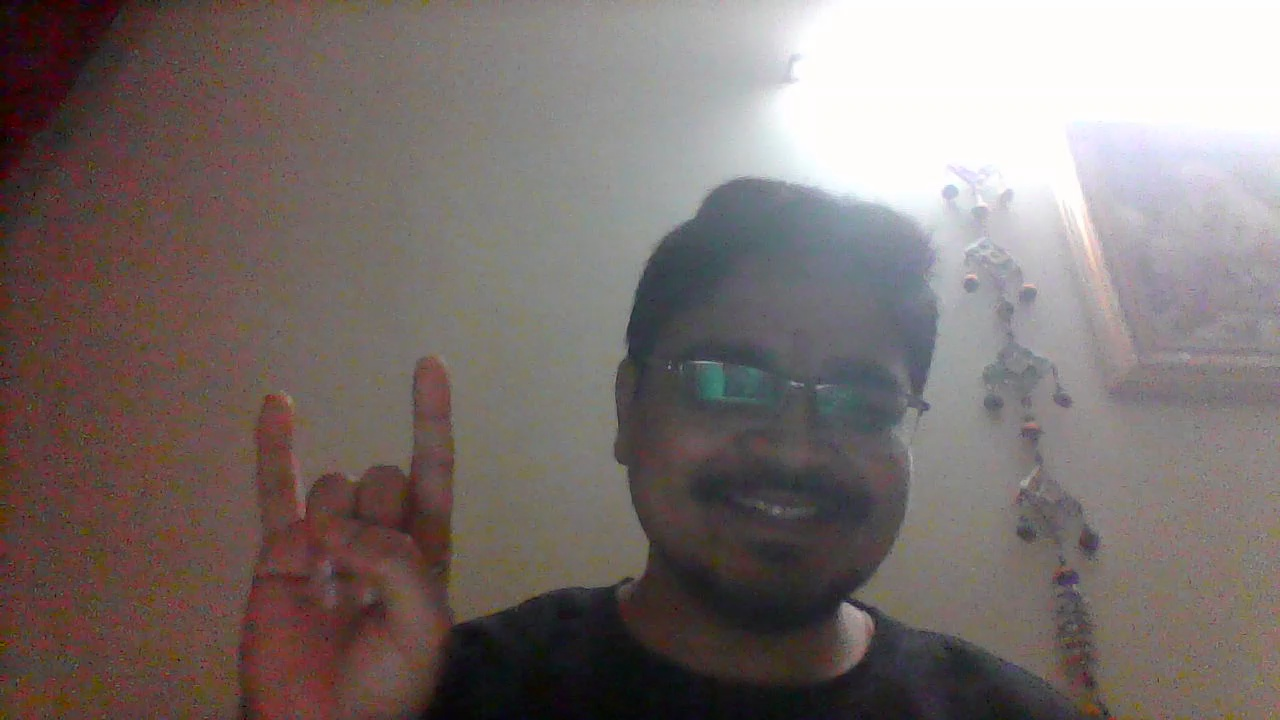ILoveYou: (240, 350, 461, 711)
